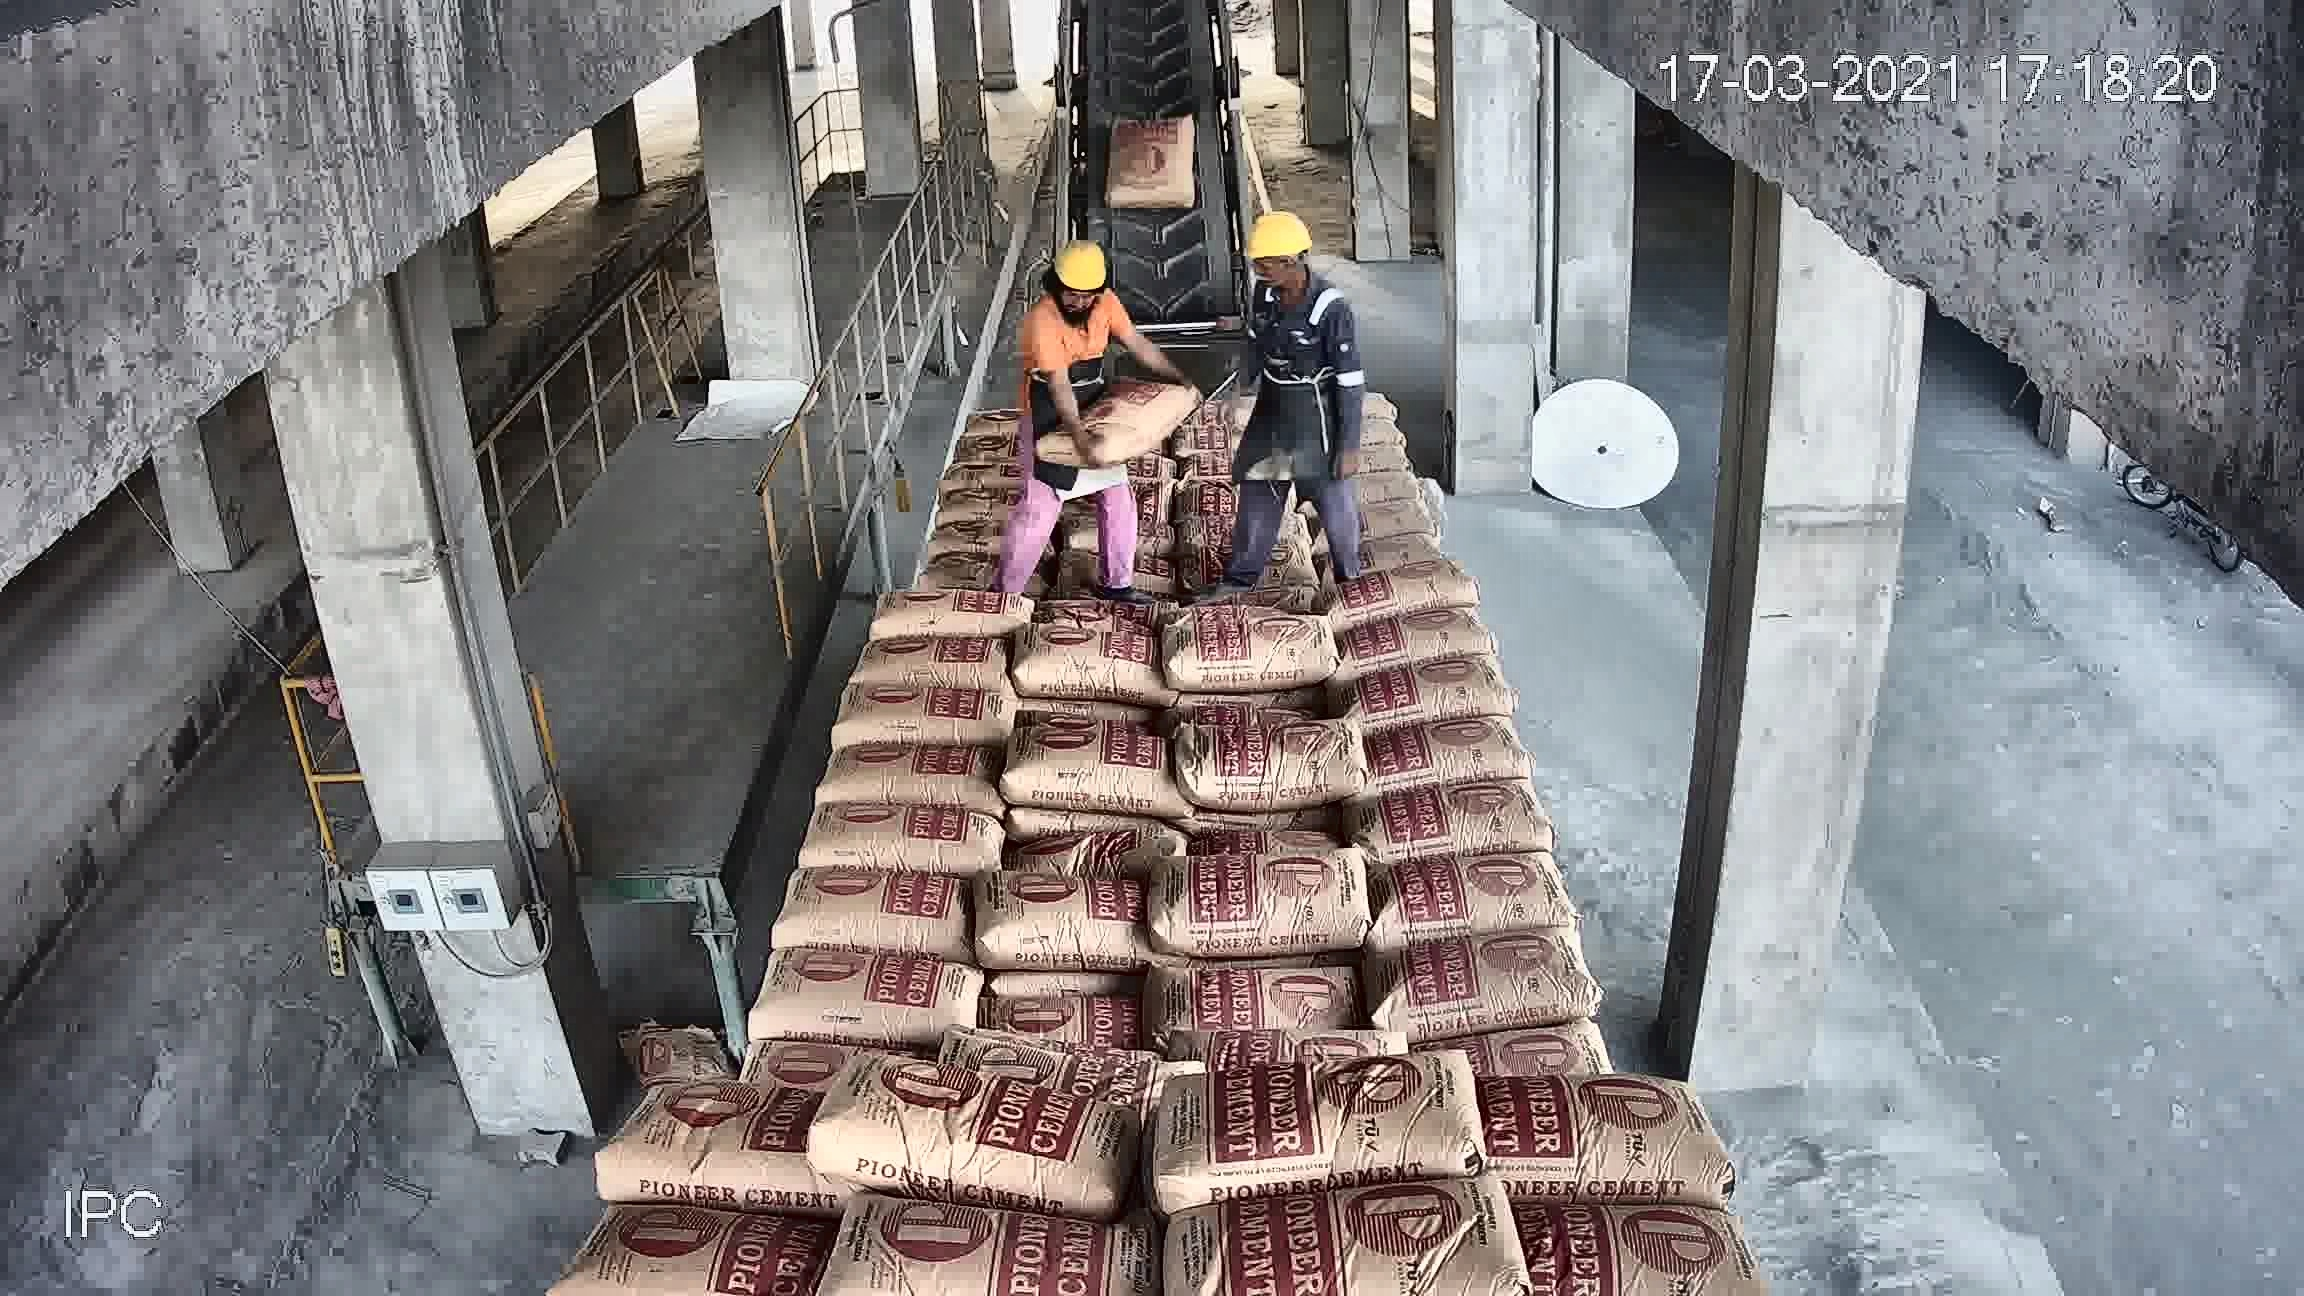bag: (1101, 117, 1201, 209)
bag_h: (1146, 1043, 1476, 1201), (807, 1054, 1155, 1190), (1473, 1084, 1714, 1207), (1155, 839, 1374, 965), (592, 1079, 817, 1198), (1358, 840, 1568, 956), (1372, 929, 1590, 1036), (744, 953, 995, 1041), (760, 867, 975, 970), (978, 864, 1161, 976), (1165, 714, 1359, 812), (1150, 600, 1343, 696), (992, 707, 1169, 812), (1434, 995, 1609, 1100), (788, 798, 997, 885), (1155, 957, 1359, 1041), (1377, 764, 1546, 862), (1035, 367, 1201, 464), (831, 668, 1033, 747), (942, 1017, 1204, 1078), (821, 729, 1006, 813), (1355, 720, 1537, 794), (1359, 657, 1519, 734), (1332, 604, 1483, 679), (859, 581, 1040, 641), (1024, 616, 1150, 695), (1022, 820, 1184, 881), (853, 635, 1006, 696), (1343, 555, 1476, 620), (1010, 981, 1154, 1035), (896, 551, 1022, 590), (921, 513, 1006, 563), (937, 483, 1019, 529), (938, 426, 1006, 468), (938, 460, 1011, 497)
belt: (1055, 14, 1247, 385)
